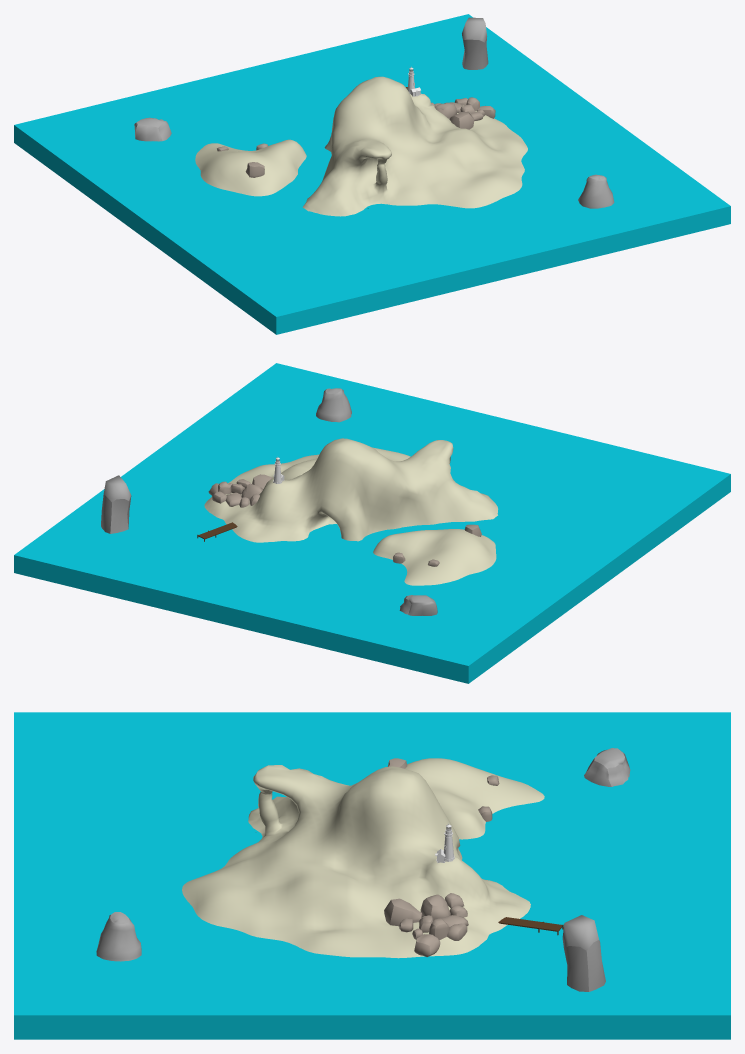
Rendered from BigIsland.fbx.
3 views of the same model, one above another, from view 1: azimuth 30°, elevation 25°; view 2: azimuth 150°, elevation 25°; view 3: azimuth 270°, elevation 25° (orthographic). The views are drawn at different scales.
Parts seen in each view (by area): view 1: Ocean, Island, stalag1, stalag3, stalag2; view 2: Ocean, Island, stalag1, stalag3, stalag2; view 3: Ocean, Island, stalag1, stalag3, stalag2, SeagullStage_v4:pCube2, SeagullStage_v4:pCube3.
Boxes of the visible parts, bbox=[...] form: Ocean: bbox=[14, 14, 730, 334]; Island: bbox=[195, 76, 527, 216]; stalag1: bbox=[462, 17, 488, 69]; stalag3: bbox=[578, 174, 614, 208]; stalag2: bbox=[134, 117, 171, 141]; Ocean: bbox=[14, 363, 730, 683]; Island: bbox=[204, 438, 498, 585]; stalag1: bbox=[101, 475, 131, 533]; stalag3: bbox=[316, 388, 351, 422]; stalag2: bbox=[399, 595, 437, 615]; Ocean: bbox=[14, 712, 730, 1039]; Island: bbox=[182, 758, 544, 958]; stalag1: bbox=[562, 915, 605, 991]; stalag3: bbox=[96, 912, 141, 961]; stalag2: bbox=[584, 748, 630, 786]; SeagullStage_v4:pCube2: bbox=[384, 898, 422, 926]; SeagullStage_v4:pCube3: bbox=[420, 894, 450, 920].
Bounding box in the file's own units: 4932 × 1136 × 4932.
